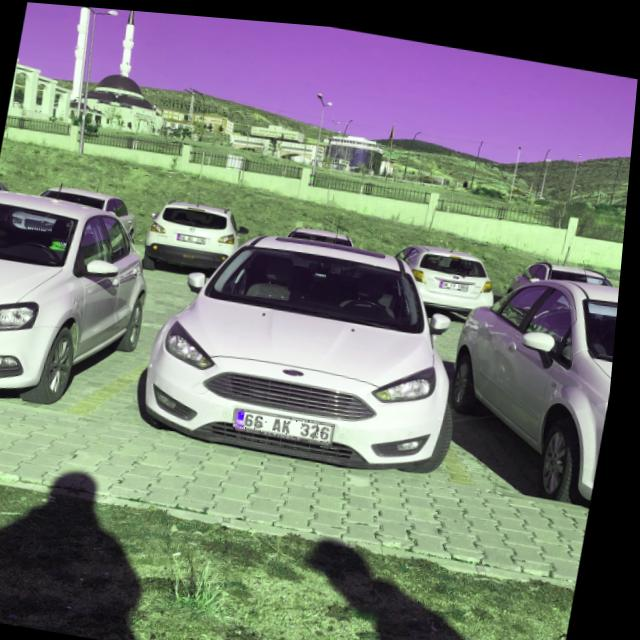license_plate: (239, 403, 342, 437)
